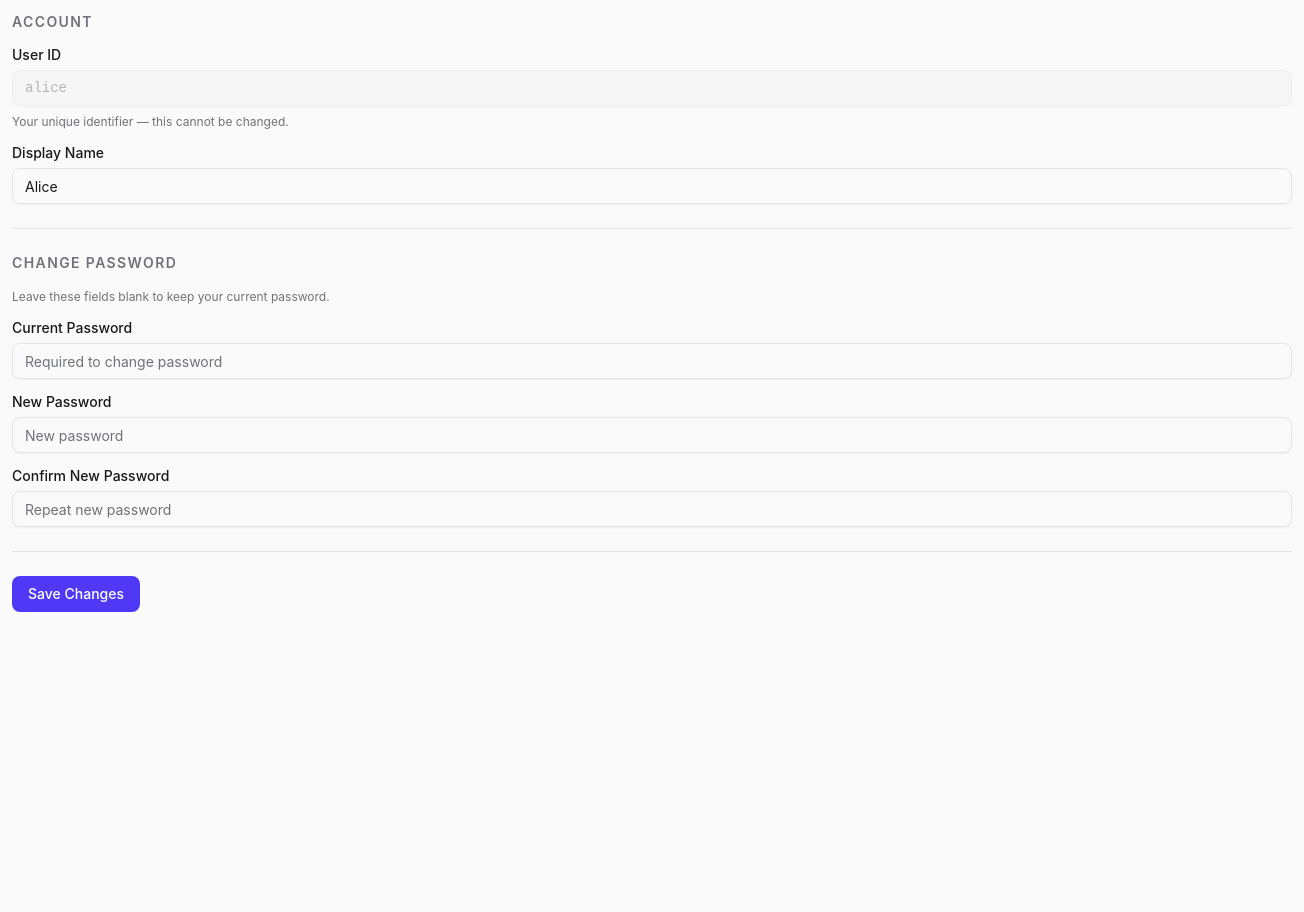
ProfileForm › validates password confirmation matches
Expected: the field labelled "Display Name" holds "Alice", [12,168,1292,204]
In the password field labelled "Current Password": (652, 361) [12,343,1292,379], type "1234"
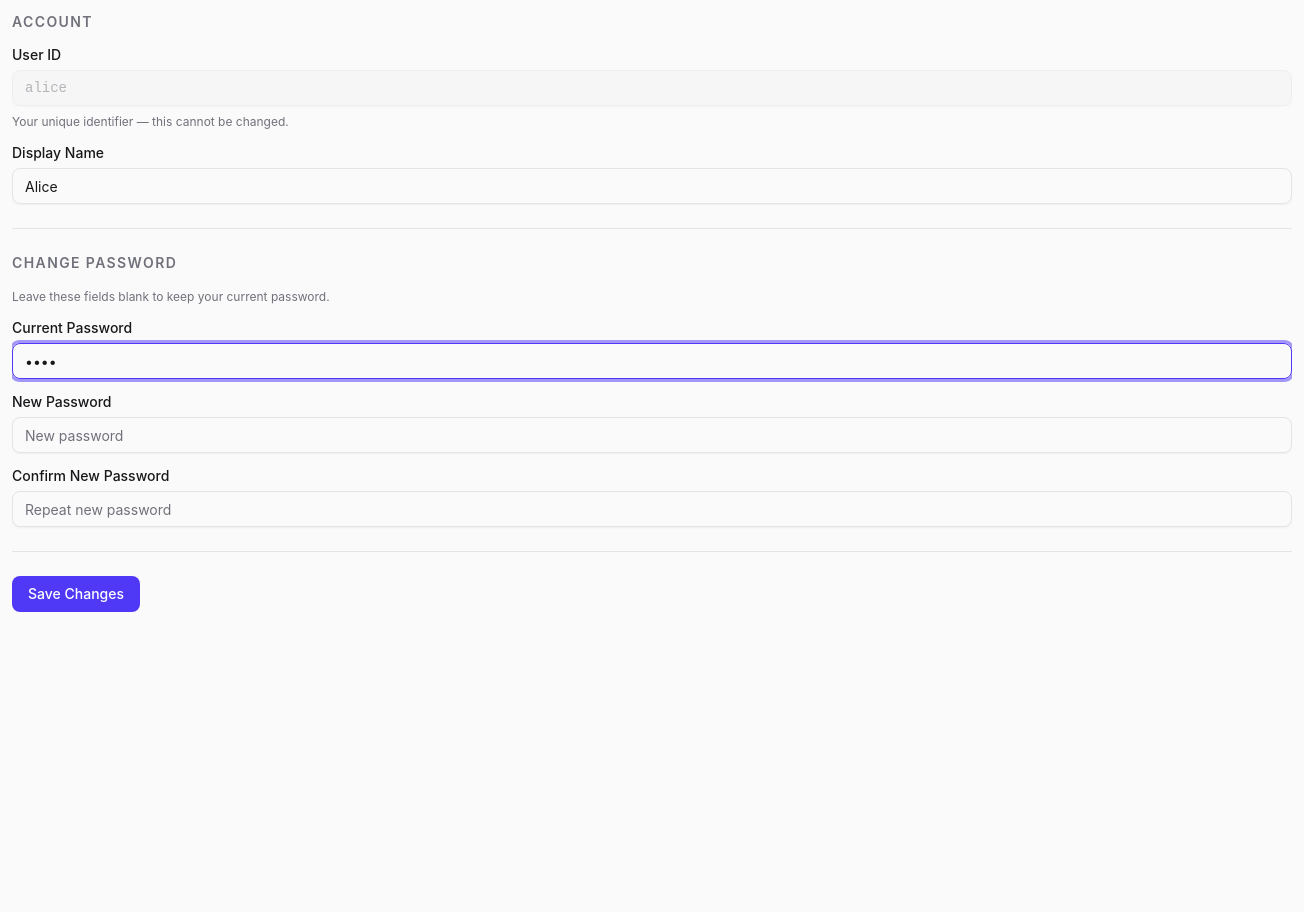
In the password field labelled "New Password": (652, 435) [12,417,1292,453], type "newpass"
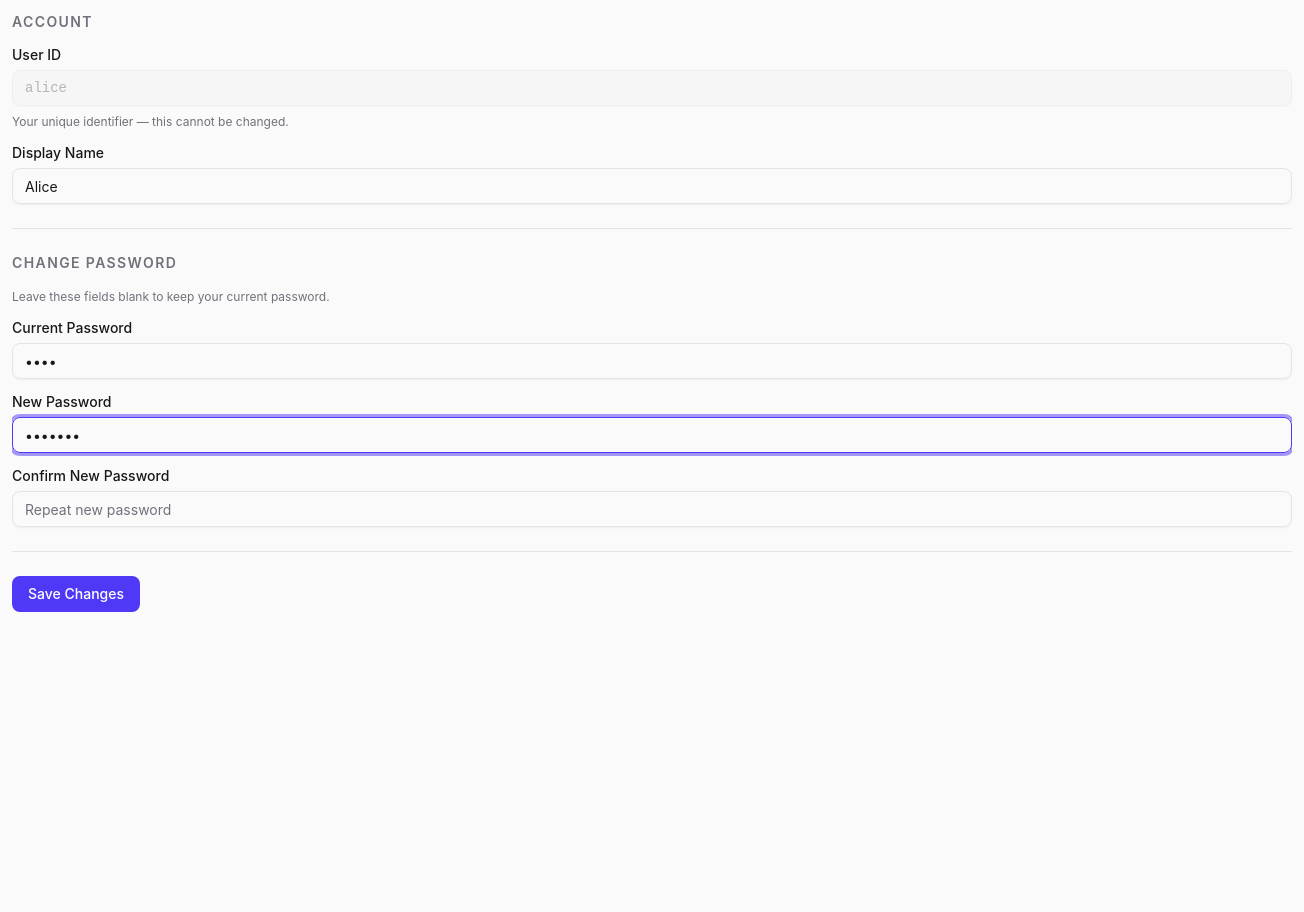
In the password field labelled "Confirm New Password": (652, 509) [12,491,1292,527], type "different"
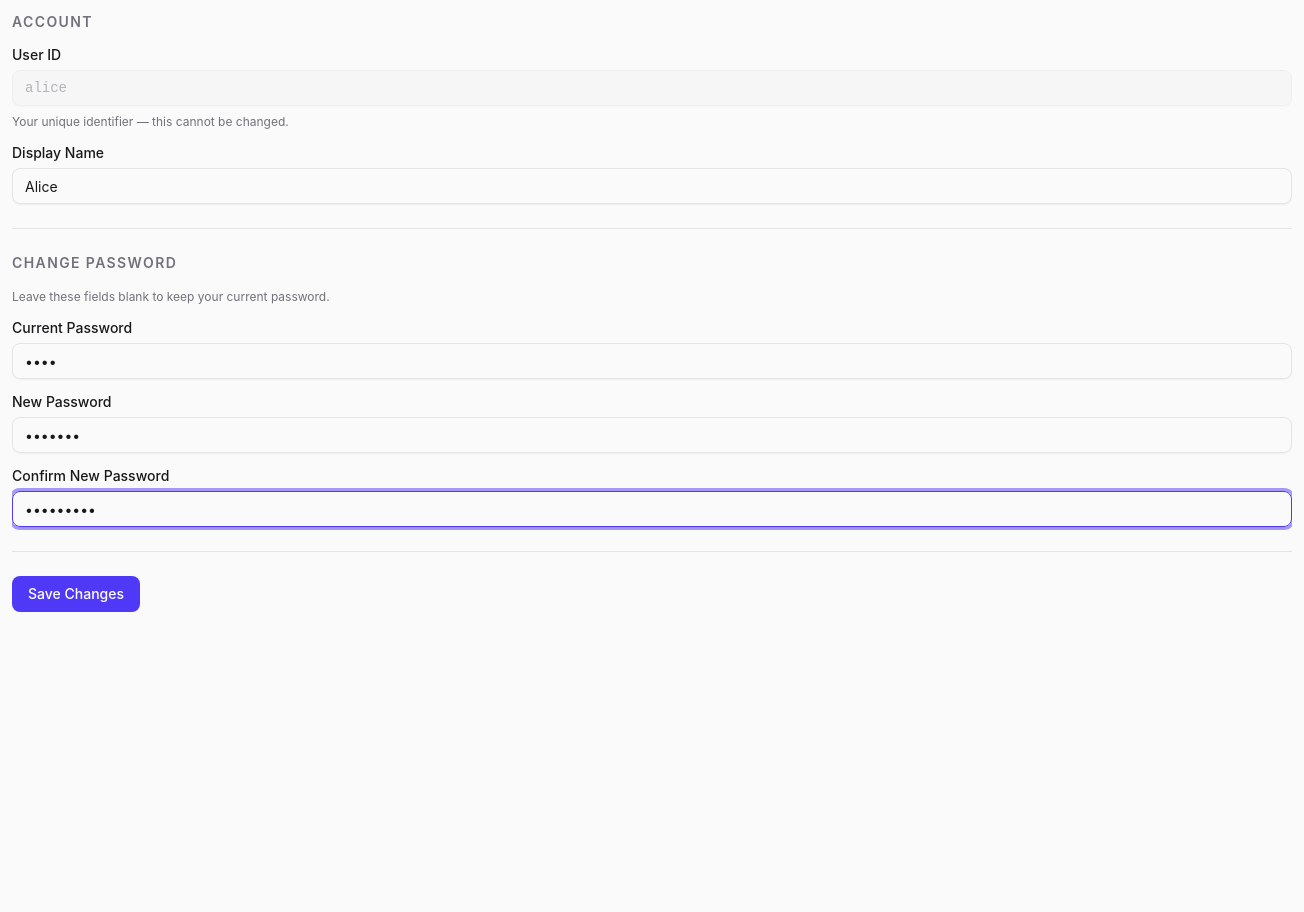
Click the button "Save Changes": (76, 594) [12,576,140,612]
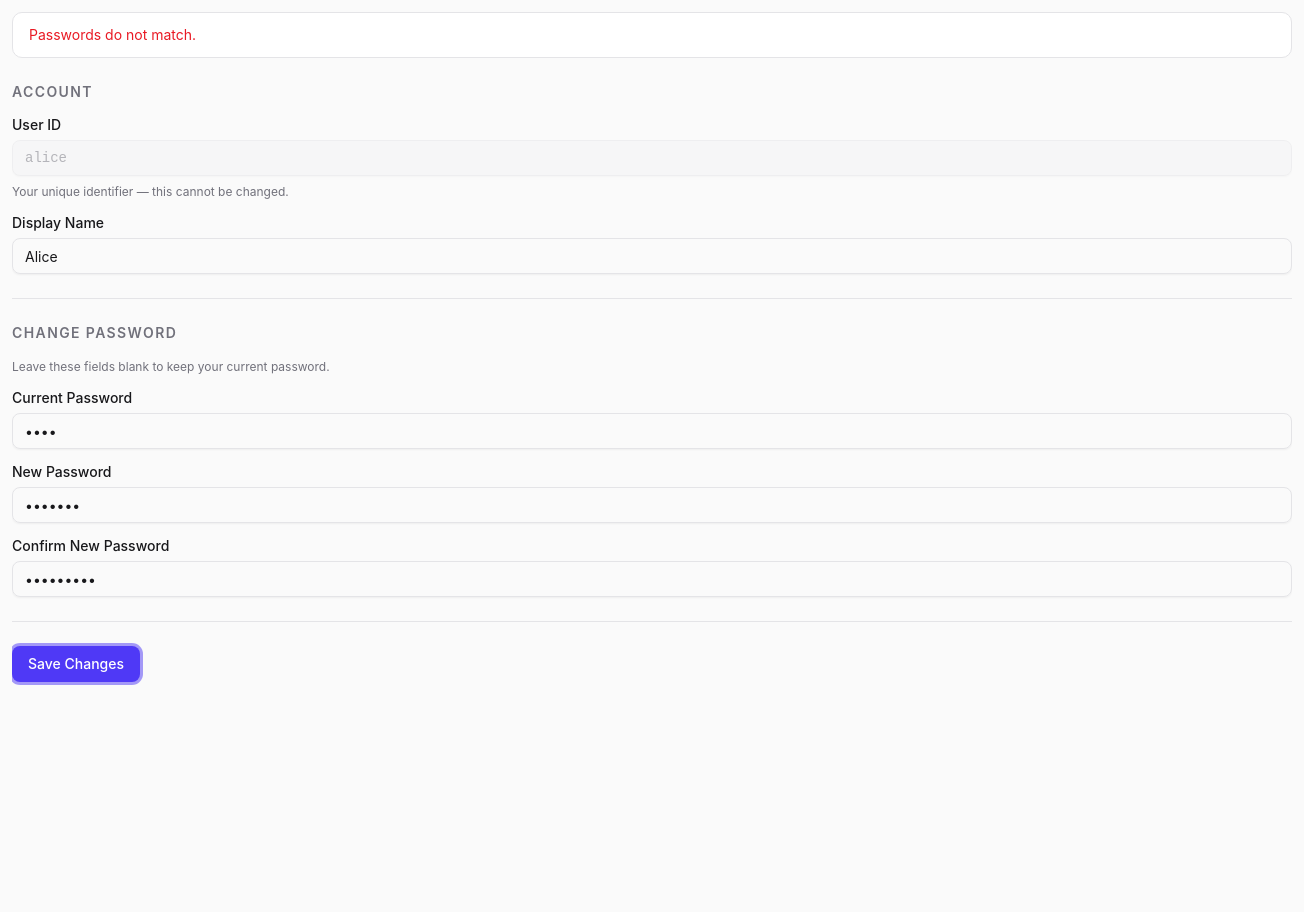
Expected: the text "Passwords do not match." is shown, [29,26,196,43]
